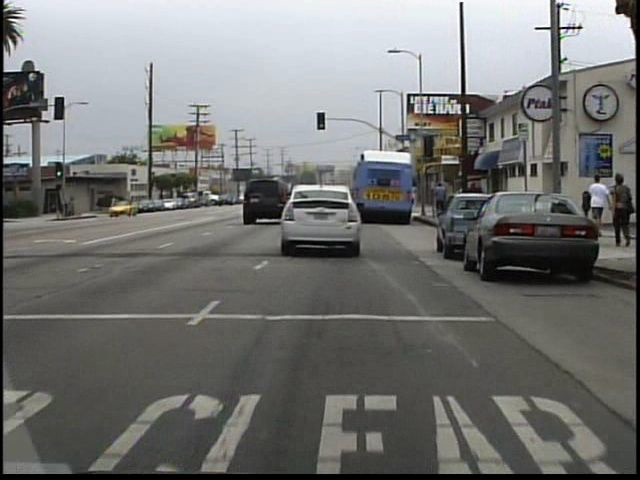person: (607, 171, 633, 249), (586, 171, 611, 228), (431, 181, 450, 222), (110, 193, 124, 217)
